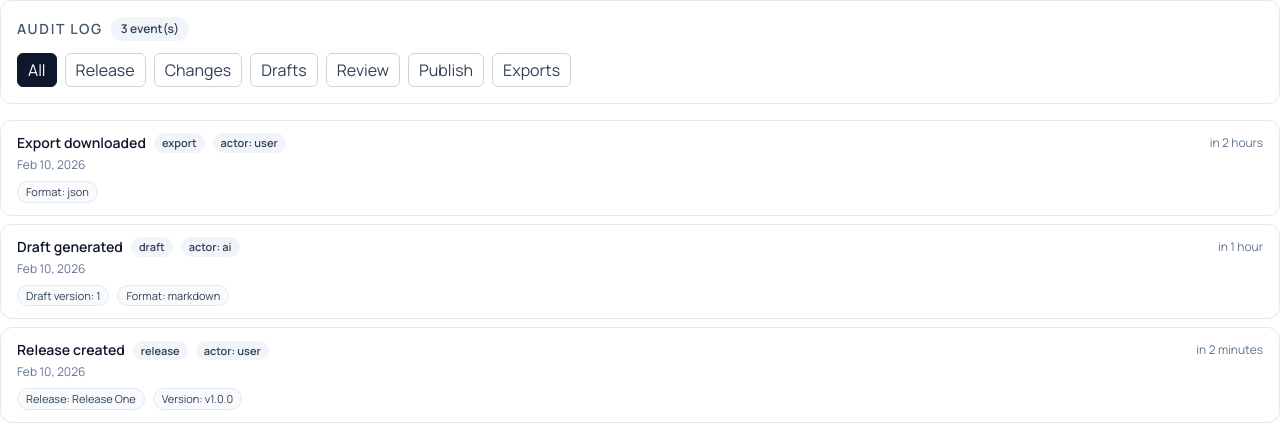
Test: ReleaseAuditTab › filters events by category
Click the button "Exports": click(532, 70) [492,53,571,87]
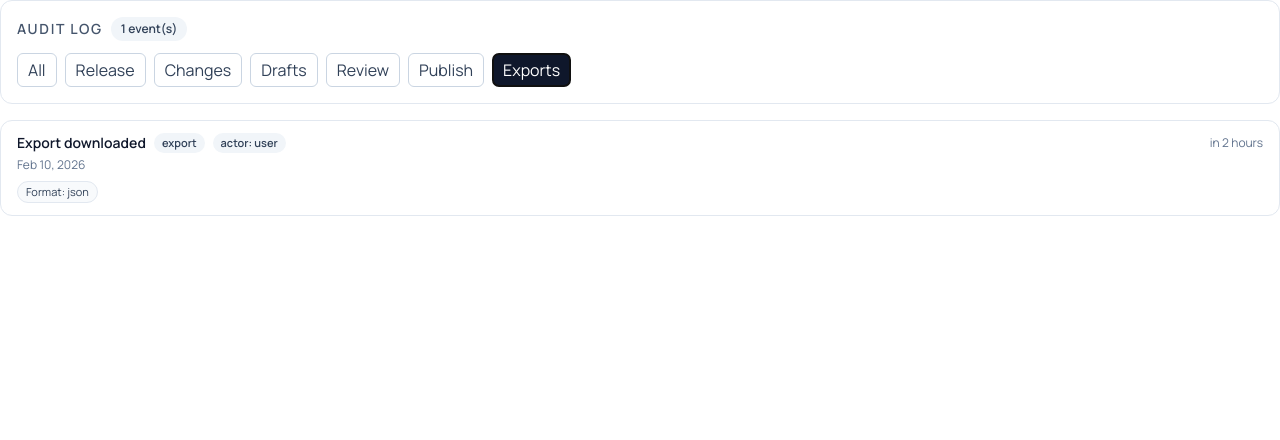
Check: the text "Export downloaded" is shown, box [17,133,146,153]
Check: the text "Release created" is gone
Check: the text "Draft generated" is gone
